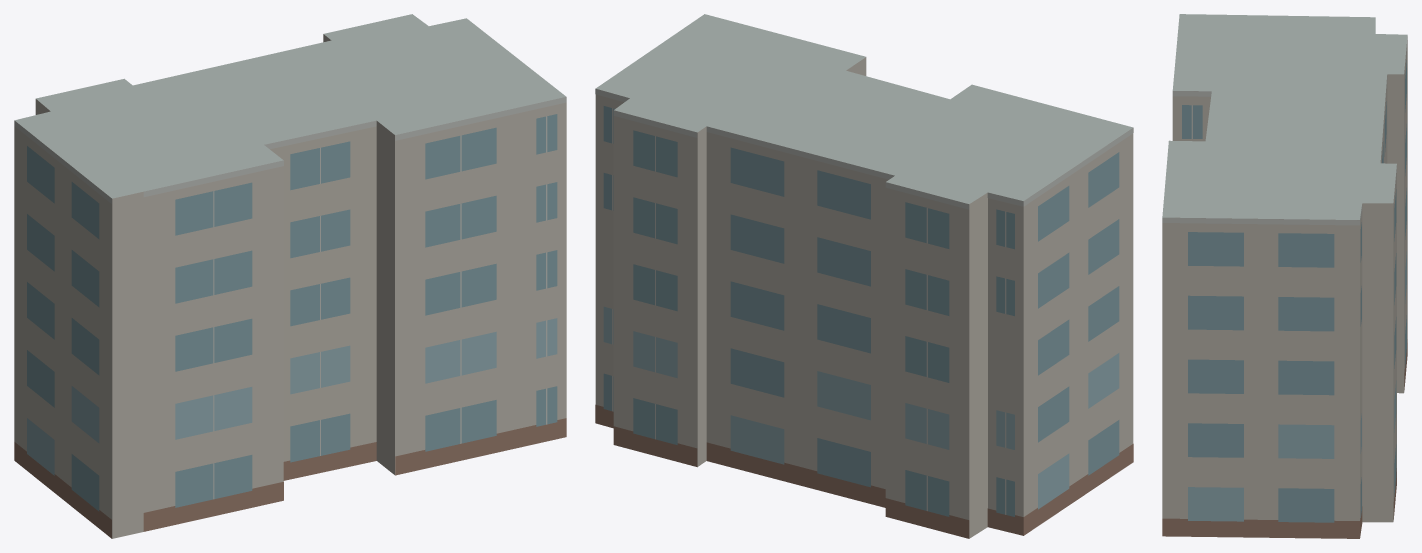
The model's file is survey-upis-33044029.glb.
The picture shows the model from 3 angles, left to right: view 1: azimuth 30°, elevation 25°; view 2: azimuth 150°, elevation 25°; view 3: azimuth 270°, elevation 25°; orthographic projection. The views are drawn at different scales.
Visible parts, largest first — view 1: survey-upis-33044029.tmp; view 2: survey-upis-33044029.tmp; view 3: survey-upis-33044029.tmp.
Boxes of the visible parts, x1,y1,x2,y2 form: survey-upis-33044029.tmp: [14, 14, 566, 538]; survey-upis-33044029.tmp: [595, 14, 1133, 538]; survey-upis-33044029.tmp: [1162, 14, 1407, 538].
Size of the model in its own units: 20.11 by 14.5 by 10.12.
